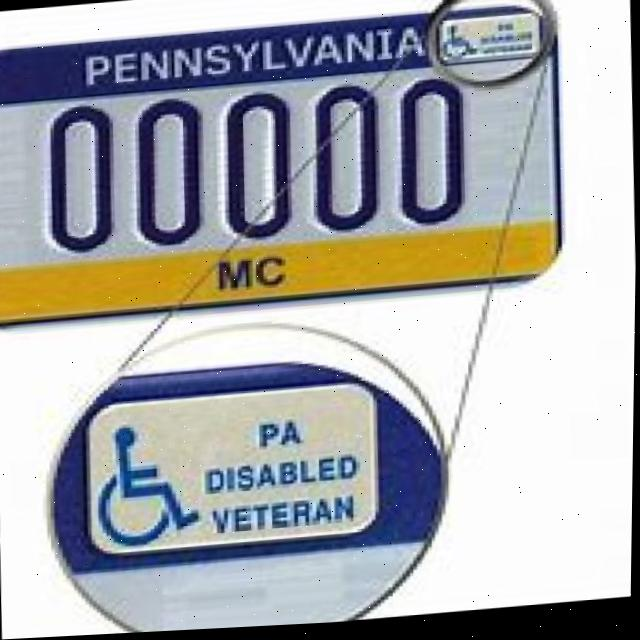symbol_of_access: (90, 416, 210, 555), (438, 24, 481, 67)
